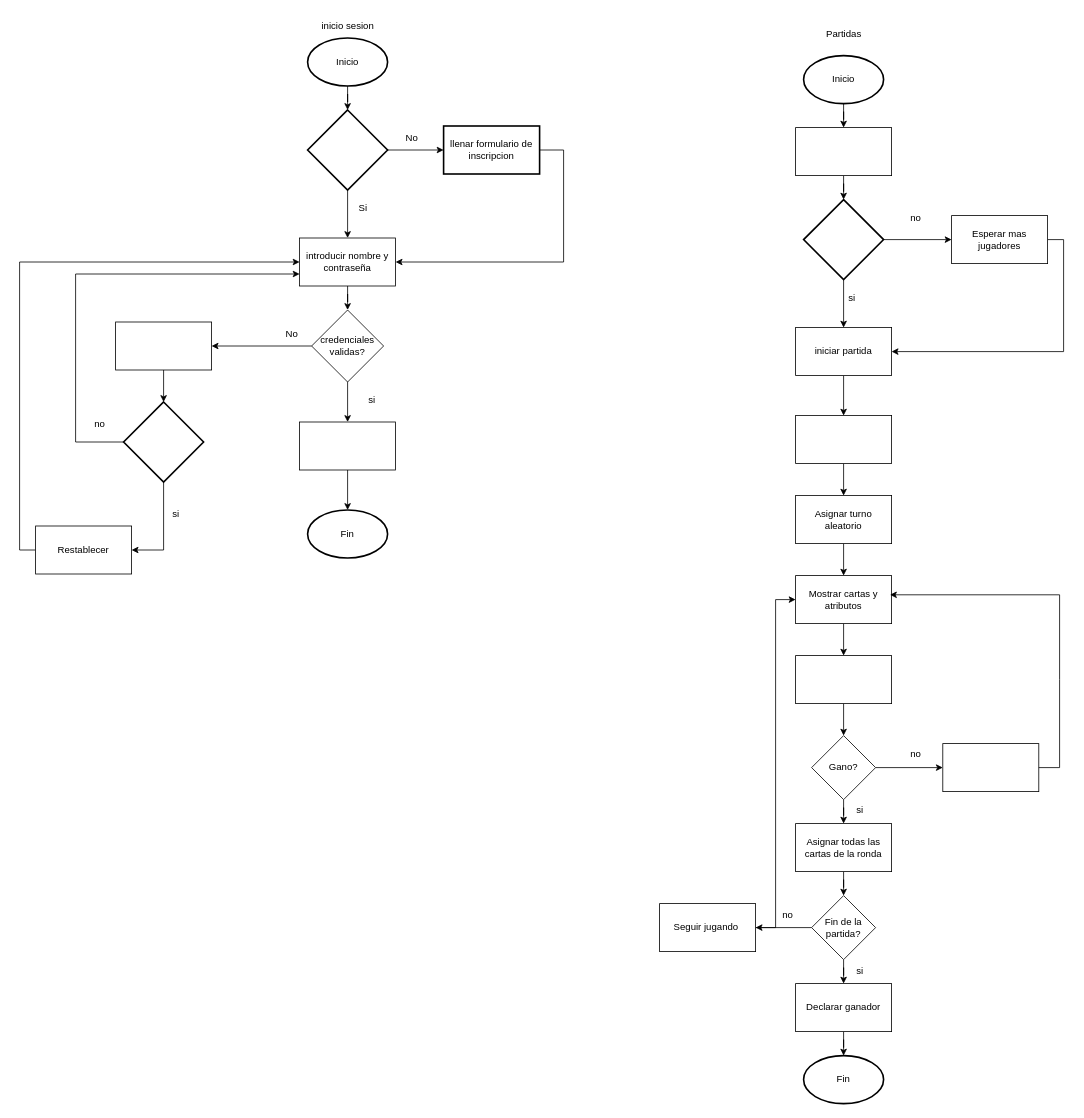
Image size: 1084x1118. Some labels were removed from this diagram. The centre of each missing label's shape, as x and y in pixels:
"Comparar atributos" goes at point (843, 679).
"Continuar jugando" goes at point (990, 767).
"Crear/unirse a sala" goes at point (843, 151).
"Error inicio de sesión" goes at point (163, 345).
"has olvidado tu contraseña?" goes at point (163, 441).
"Reparto de 8 cartas únicas por jugador" goes at point (843, 439).
"Sala completa?" goes at point (843, 239).
"usuario ingresado correctamente" goes at point (347, 445).
"Ya esta registrado?" goes at point (347, 149).
